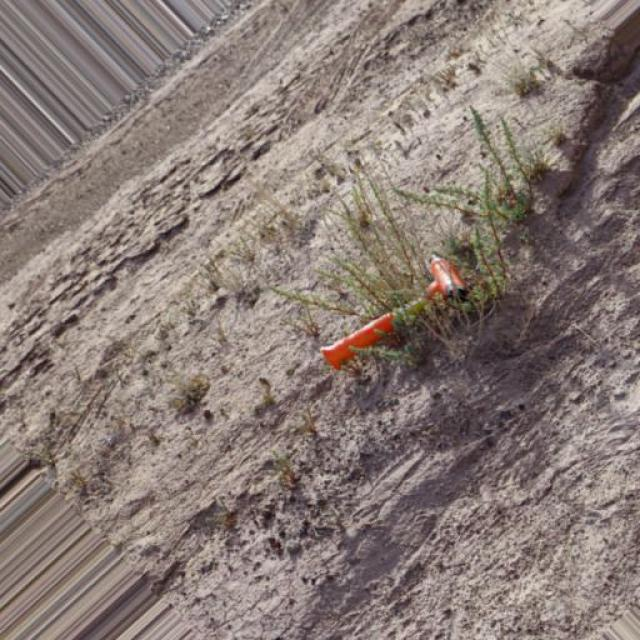mallet: (320, 254, 471, 371)
